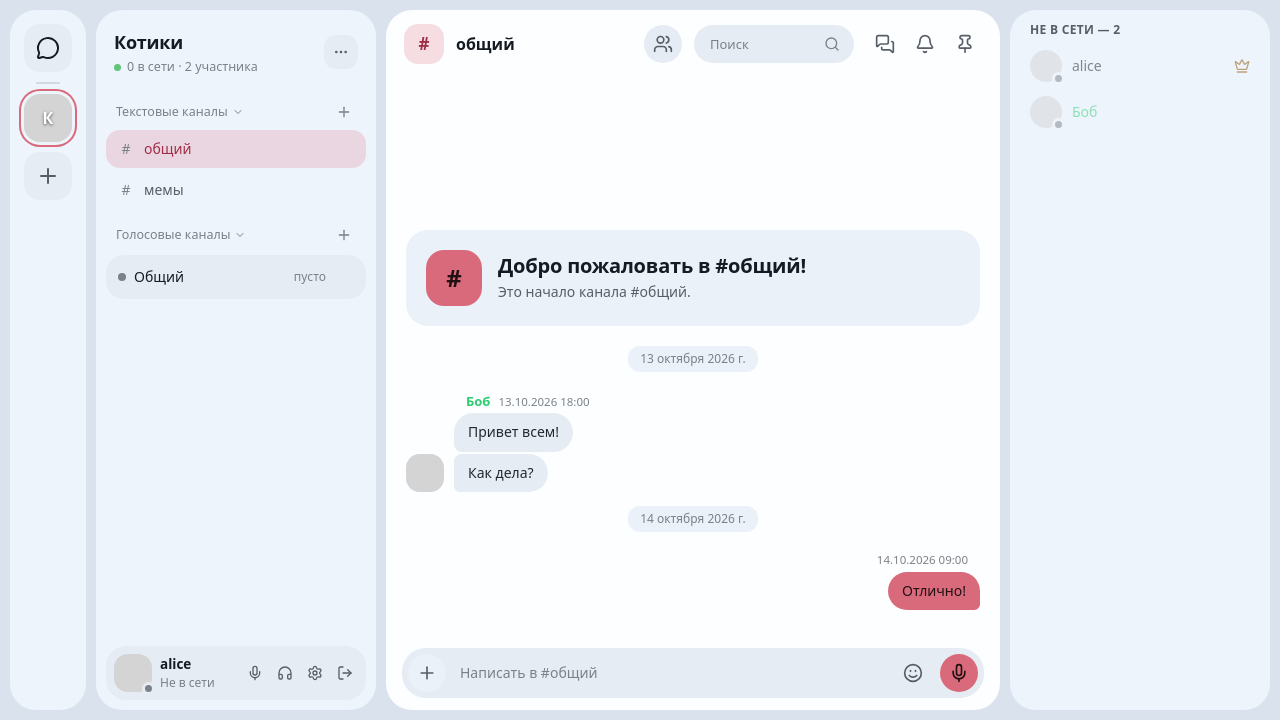
Test: pins panel › keeps the panel open when the pinned message is not loaded
Expected: the text "Как дела?" is shown, [468,463,534,483]
Click the button named "Закреплённые сообщения" at (965, 44), box [946,25,984,63]
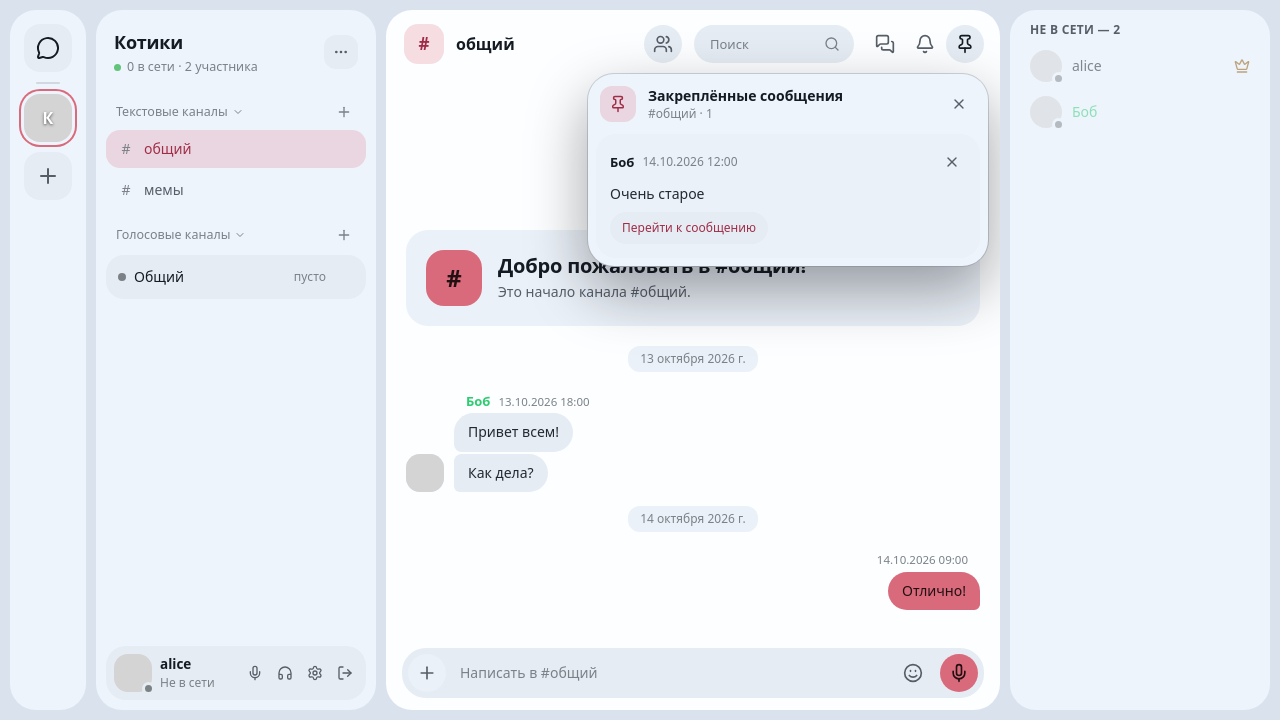
Click the button "Перейти к сообщению" at (689, 228), box [610,212,768,244]
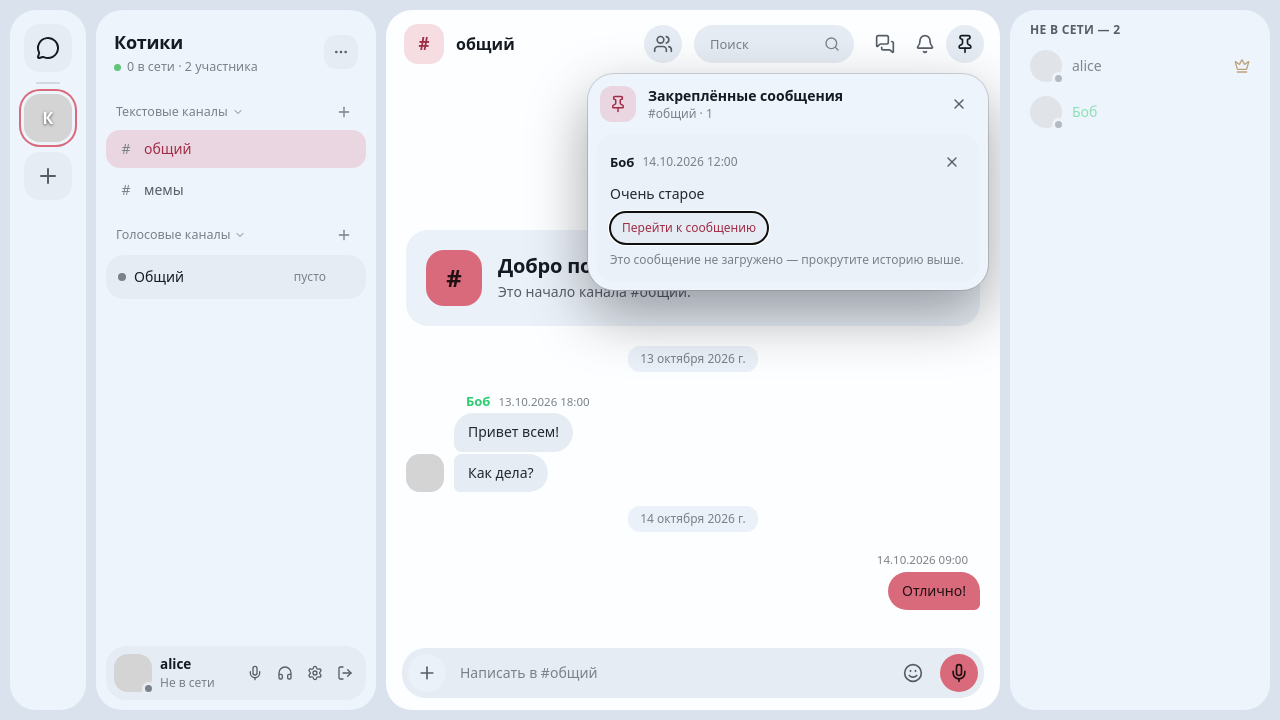
Expected: the text "Это сообщение не загружено — прокрутите историю выше." is shown, [610,252,966,268]
